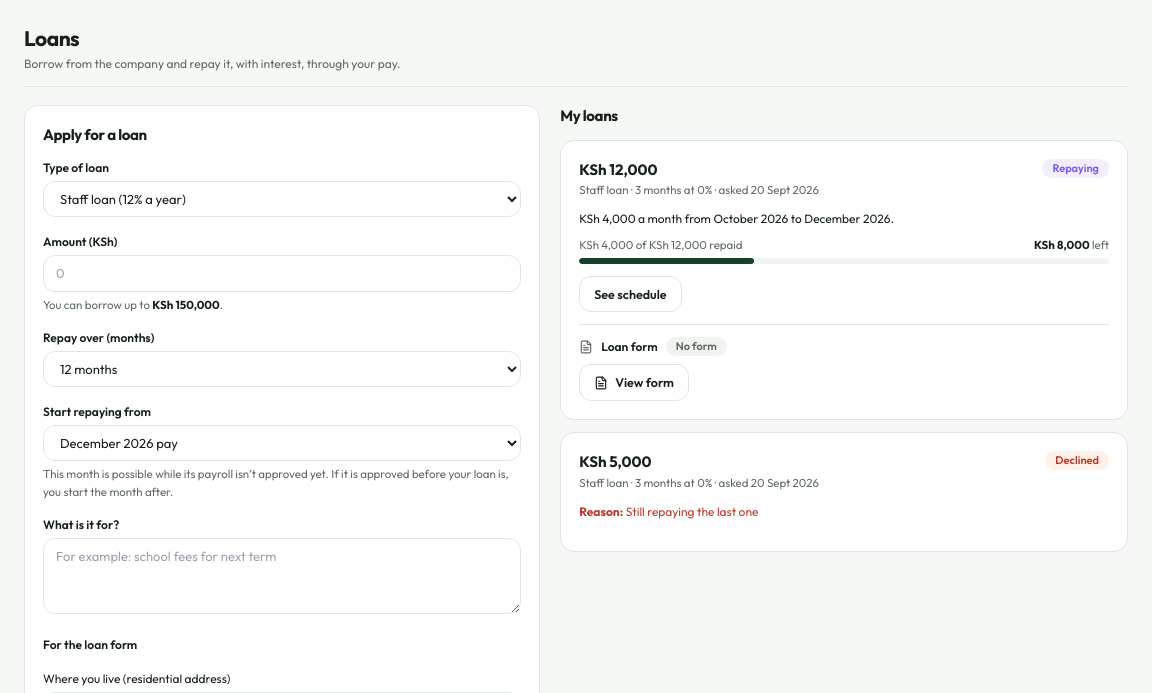
Test: my loans › shows the balance, the schedule and the reason for a decline
The image size is (1152, 693).
Expected: the text "KSh 4,000 of KSh 12,000 repaid" is shown, left=579, top=236, right=742, bottom=254
Expected: the text "Still repaying the last one" is shown, left=626, top=504, right=758, bottom=519
Click the button "See schedule" at (630, 294), box left=579, top=276, right=682, bottom=312
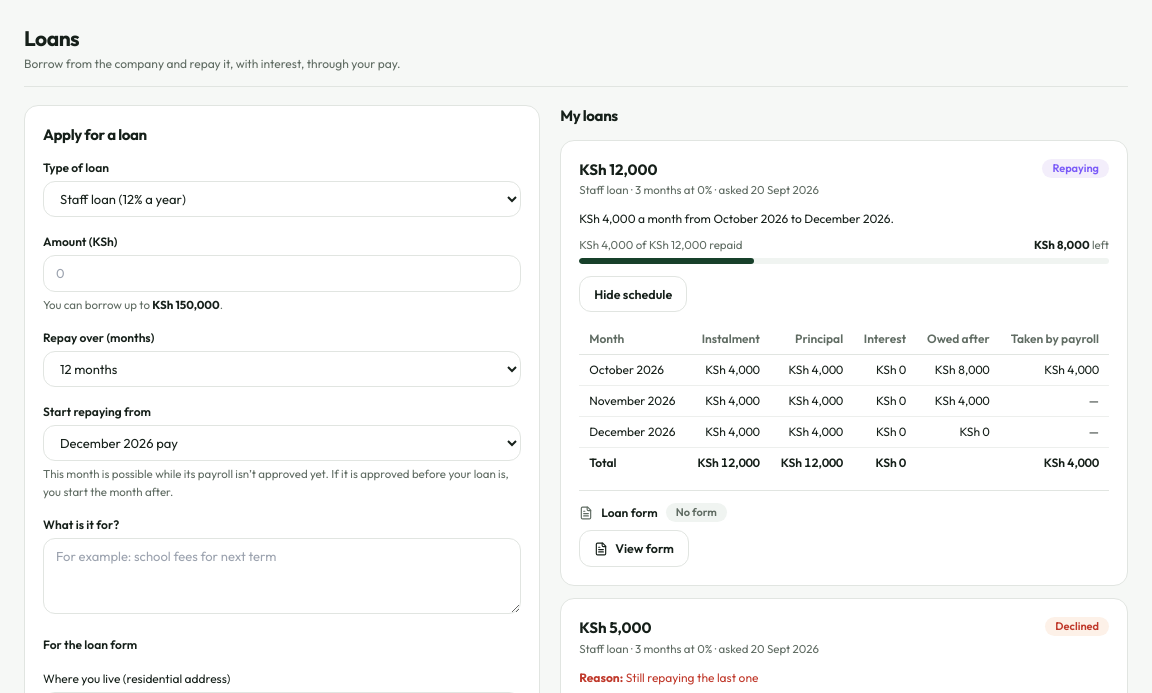
Now the column heading "Taken by payroll" is shown, box left=1000, top=324, right=1109, bottom=355
Now the number of rows is 5, box left=579, top=324, right=1109, bottom=355; left=579, top=355, right=1109, bottom=386; left=579, top=386, right=1109, bottom=417; left=579, top=417, right=1109, bottom=448; left=579, top=448, right=1109, bottom=478
